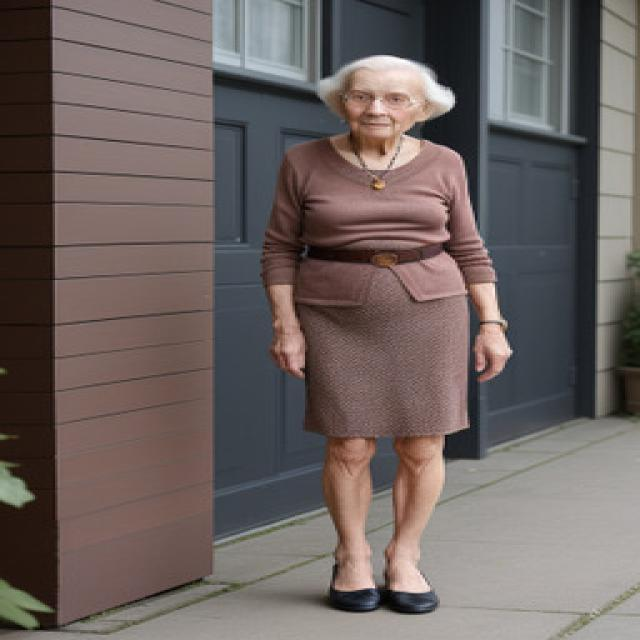Ai human 2: (250, 43, 532, 627)
